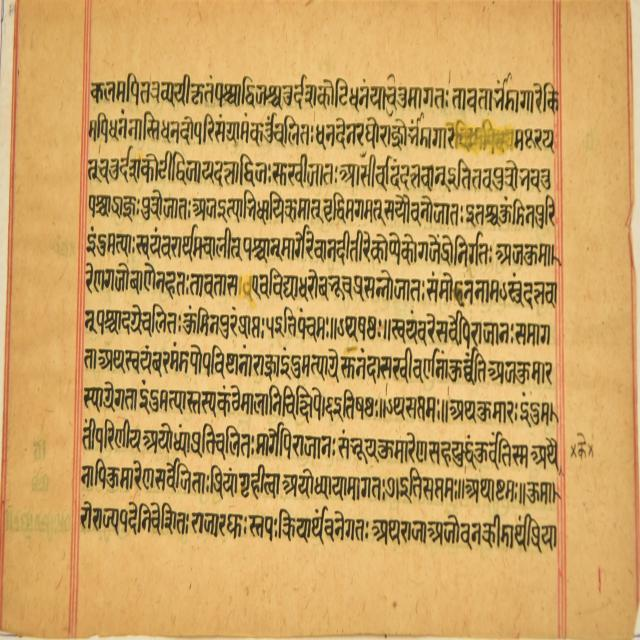text_paragraph: (2, 1, 640, 638)
